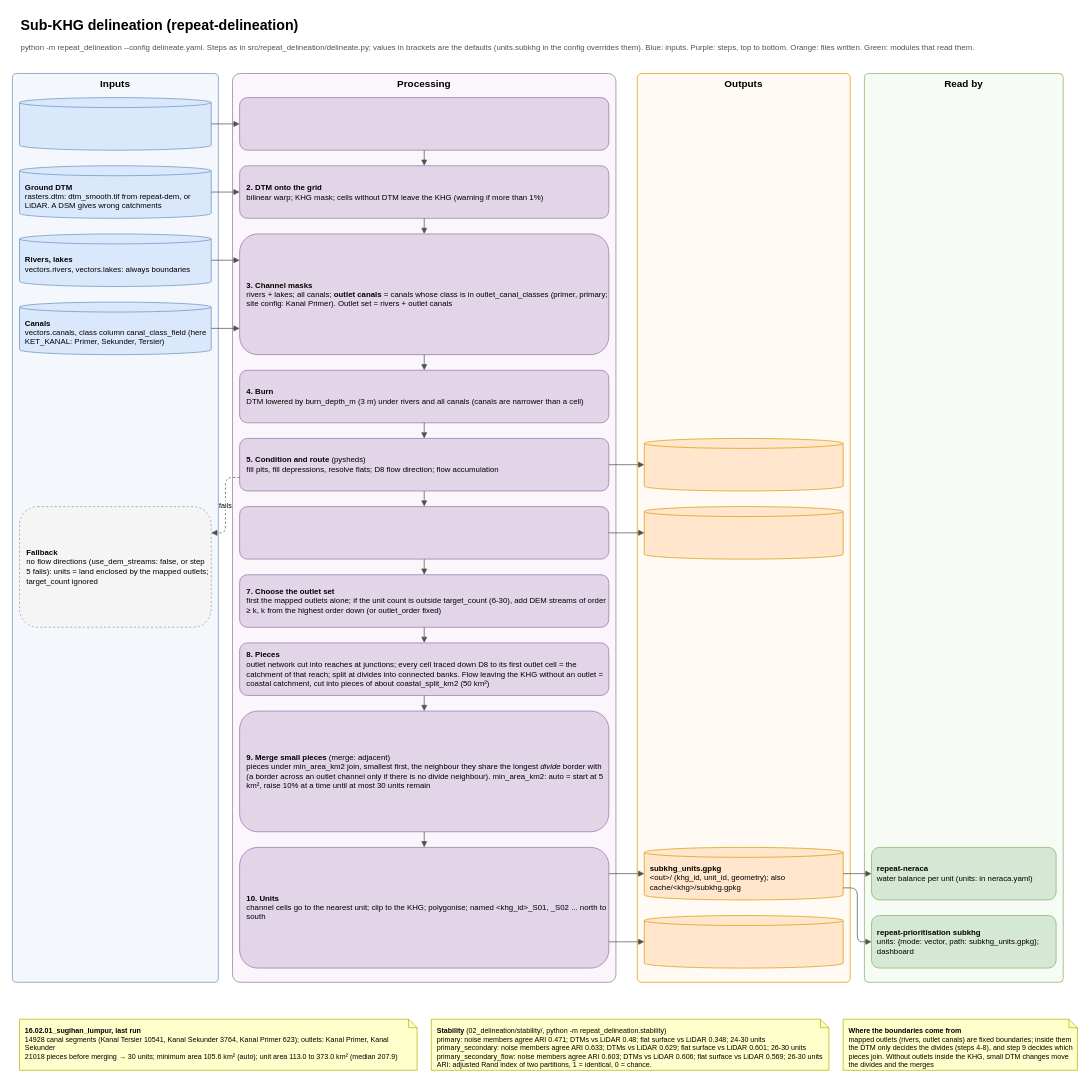
Image size: 1090x1083. Some labels were removed from this diagram. The shapes that lost their labels are listed below. From the top down, each one's centre as x and y in pixels, then its label:
At pixel 115 123: "KHG polygon khg (16.02.01_sugihan_lumpur/00_inputs/khg.gpkg)".
At pixel 424 123: "1. Grid UTM grid at grid_res_m (30 m) over the KHG plus 1 km".
At pixel 743 464: "flow_accumulation.tif cache/<khg>/static/".
At pixel 424 532: "6. DEM streams accumulation ≥ stream_threshold_km2 (2 km²); Strahler order".
At pixel 743 532: "stream_order.tif cache/<khg>/static/".
At pixel 743 941: "delineation_report.json settings, inputs, pieces, units, areas".
